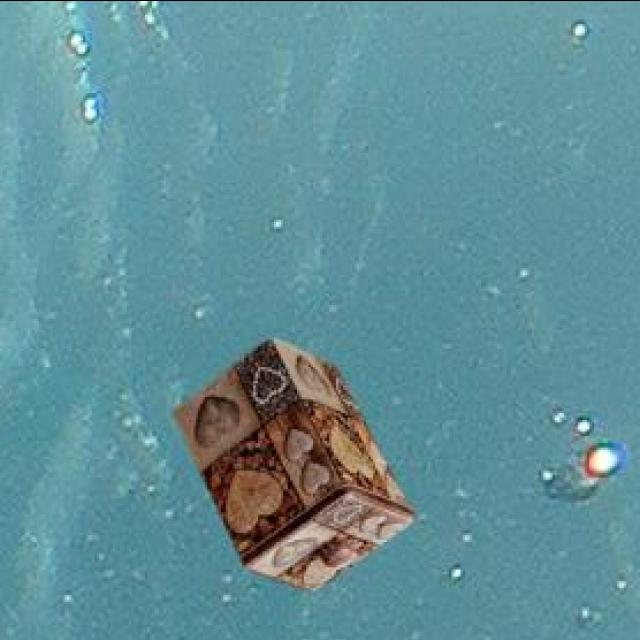logam: (176, 335, 418, 586)
